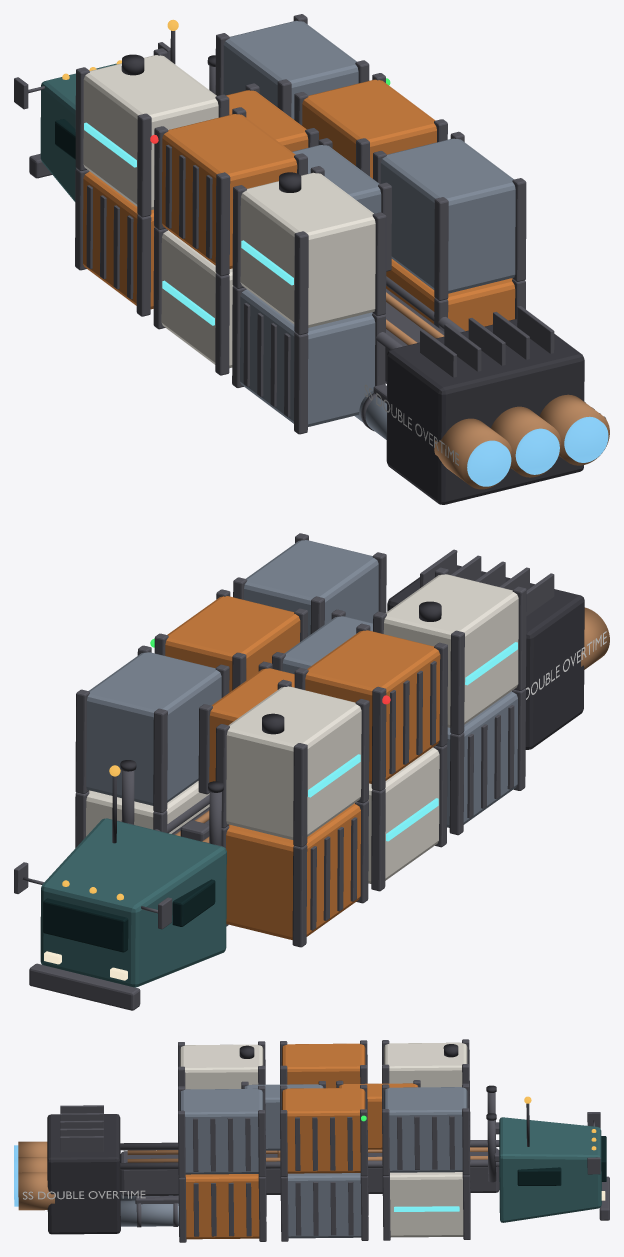
File: ss-double-overtime.glb
The picture shows the model from 3 angles, top to bottom: view 1: azimuth 30°, elevation 25°; view 2: azimuth 150°, elevation 25°; view 3: azimuth 270°, elevation 25°; orthographic projection. The views are drawn at different scales.
Parts seen in each view (by area): view 1: EngineBlock, Container5_1, Container2_1, Container3_1, Container5_0, Container4_1, Container0_1, Container1_1, Container4_0, Container3_0, Container2_0, Cab (+33 smaller); view 2: Cab, Container3_1, Container0_1, Container3_0, Container5_1, Container4_1, EngineBlock, Container2_1, Container1_1, Container4_0, Container5_0, Windshield (+25 smaller); view 3: Cab, EngineBlock, Container0_1, Container1_1, Container2_1, Container0_0, Container1_0, Container2_0, Spine, Container5_1, Container4_1, Container3_1 (+53 smaller).
Part boxes in pixels (x1,y1,x2,y2): EngineBlock: [386, 318, 584, 504]; Container5_1: [240, 172, 375, 327]; Container2_1: [380, 138, 515, 293]; Container3_1: [83, 55, 218, 209]; Container5_0: [240, 289, 375, 426]; Container4_1: [162, 114, 297, 268]; Container0_1: [223, 20, 358, 119]; Container1_1: [302, 79, 436, 178]; Container4_0: [161, 230, 232, 368]; Container3_0: [83, 171, 154, 309]; Container2_0: [386, 259, 515, 331]; Cab: [40, 63, 116, 201]; Cab: [40, 818, 226, 987]; Container3_1: [226, 686, 361, 839]; Container0_1: [86, 652, 221, 805]; Container3_0: [226, 803, 360, 939]; Container5_1: [383, 574, 518, 727]; Container4_1: [305, 630, 440, 783]; EngineBlock: [387, 565, 584, 749]; Container2_1: [244, 540, 378, 636]; Container1_1: [165, 596, 300, 692]; Container4_0: [368, 747, 439, 883]; Container5_0: [447, 691, 517, 827]; Windshield: [43, 898, 128, 952]; Cab: [499, 1117, 601, 1222]; EngineBlock: [47, 1114, 120, 1234]; Container0_1: [384, 1087, 467, 1172]; Container1_1: [282, 1088, 365, 1173]; Container2_1: [180, 1088, 263, 1174]; Container0_0: [390, 1172, 463, 1237]; Container1_0: [288, 1173, 361, 1238]; Container2_0: [185, 1174, 259, 1239]; Spine: [120, 1148, 499, 1196]; Container5_1: [180, 1044, 263, 1089]; Container4_1: [282, 1043, 365, 1088]; Container3_1: [384, 1042, 467, 1087].
Size of the model in its own units: 2.46 by 2.21 by 8.18.
